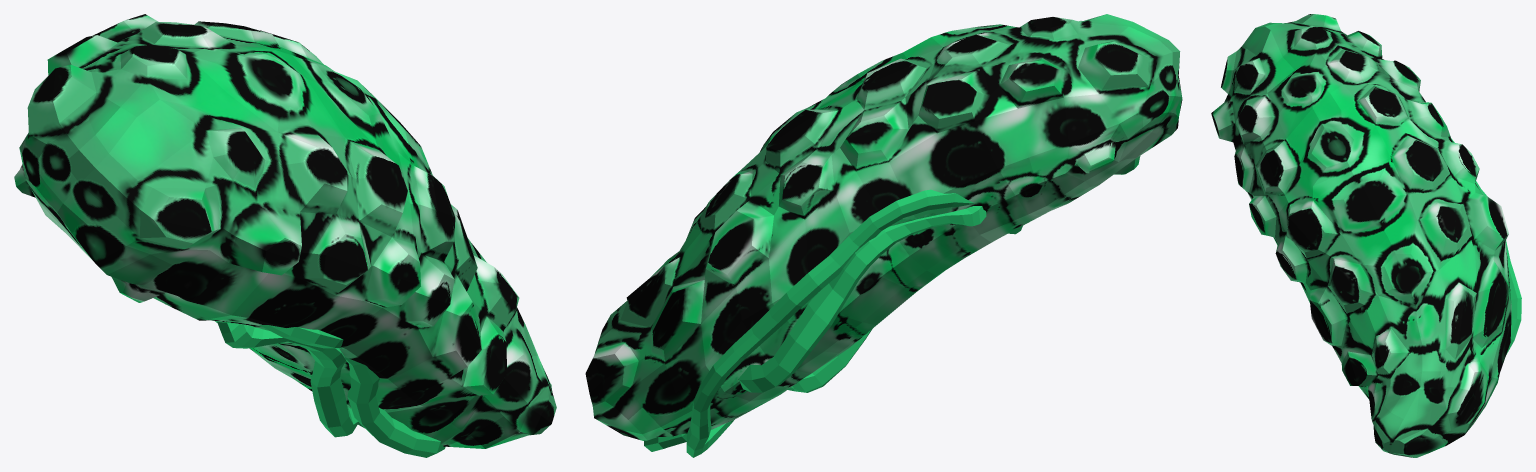
Rendered from Arm_bug.FBX.
3 views of the same model, side by side, from view 1: azimuth 30°, elevation 25°; view 2: azimuth 150°, elevation 25°; view 3: azimuth 270°, elevation 25° (orthographic). The views are drawn at different scales.
Parts seen in each view (by area): view 1: ArmBug; view 2: ArmBug; view 3: ArmBug.
Part boxes in pixels (<box>): ArmBug: <box>14,14,556,457</box>; ArmBug: <box>585,14,1182,457</box>; ArmBug: <box>1211,14,1521,457</box>.
Size of the model in its own units: 56.86 by 49.25 by 45.09.
